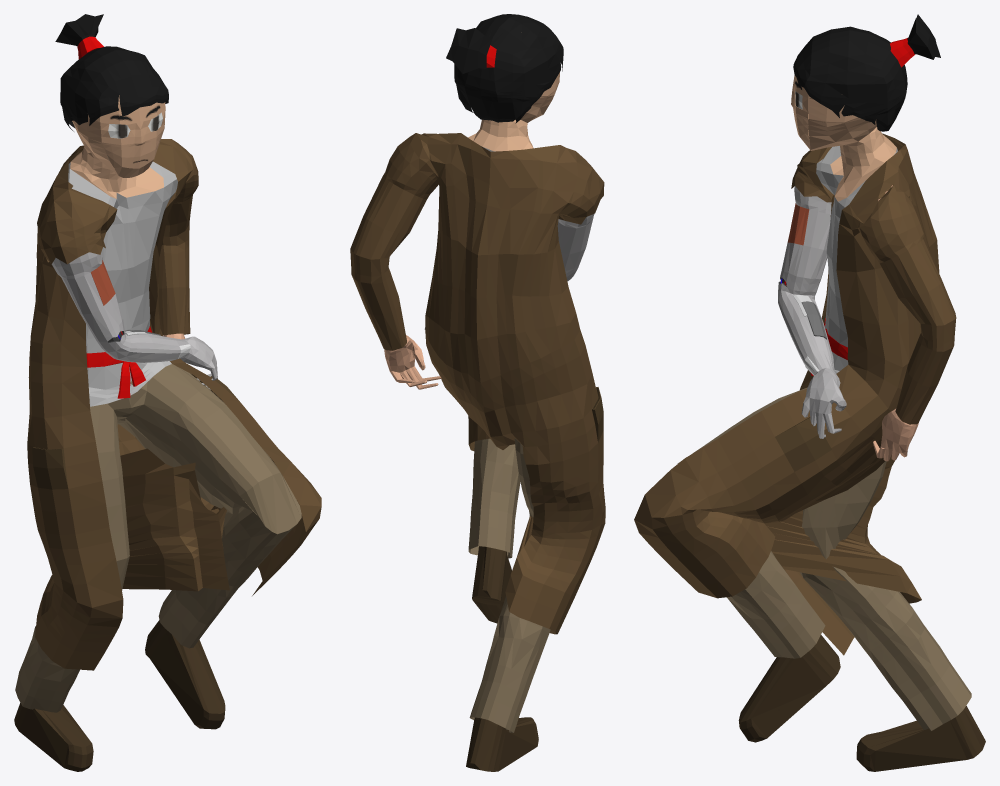
Rendered from One_RB_000016.obj.
3 renders of one model, left to right at view 1: azimuth 30°, elevation 25°; view 2: azimuth 150°, elevation 25°; view 3: azimuth 270°, elevation 25°, orthographic. The views are drawn at different scales.
Parts seen in each view (by area): view 1: Hair_Cube.004; view 2: Hair_Cube.004; view 3: Hair_Cube.004.
Part boxes in pixels (bbox=[...]): Hair_Cube.004: bbox=[14, 14, 321, 771]; Hair_Cube.004: bbox=[350, 14, 605, 771]; Hair_Cube.004: bbox=[634, 14, 985, 771].
Bounding box in the file's own units: 1.09 × 3.74 × 1.56.
